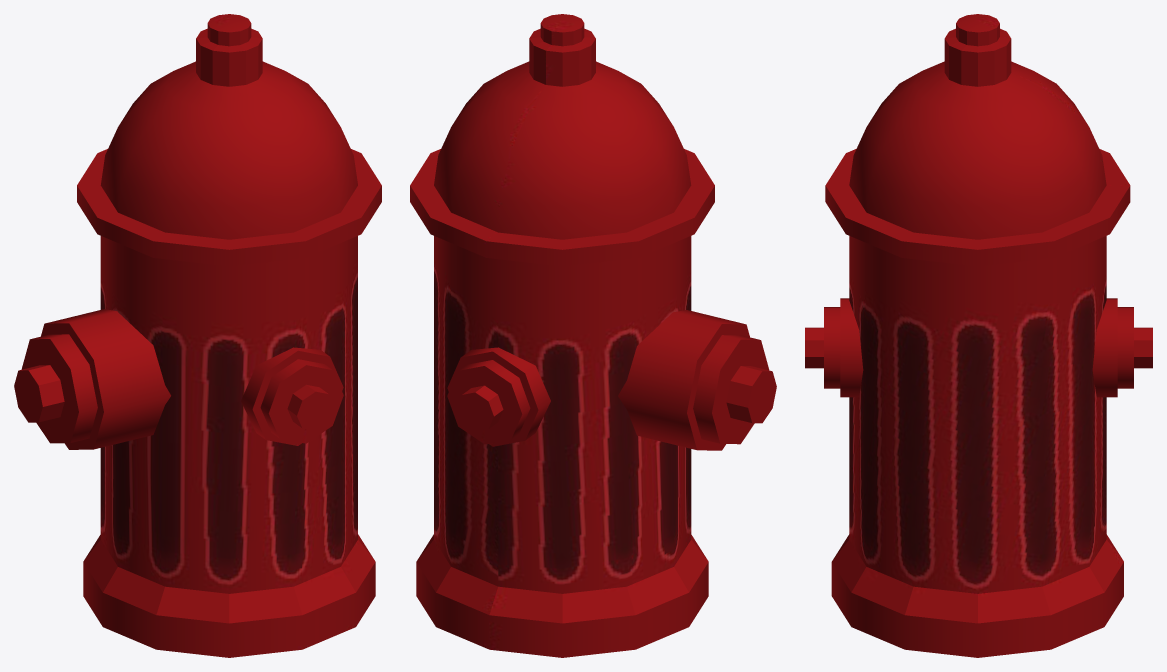
Rendered from Hydrant.FBX.
3 views of the same model, side by side, from view 1: azimuth 30°, elevation 25°; view 2: azimuth 150°, elevation 25°; view 3: azimuth 270°, elevation 25° (orthographic).
Visible parts, largest first — view 1: Capsule001; view 2: Capsule001; view 3: Capsule001.
Part boxes in pixels (x1=…): Capsule001: x1=14, y1=14, x2=381, y2=657; Capsule001: x1=410, y1=14, x2=776, y2=657; Capsule001: x1=805, y1=14, x2=1152, y2=657.
Bounding box in the file's own units: 90.8 × 150 × 82.29.
